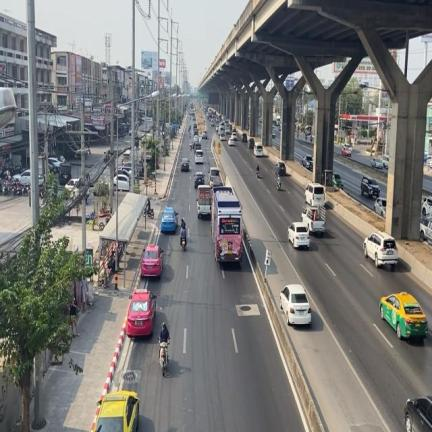bus: (211, 186, 242, 261)
car: (280, 284, 310, 324), (364, 232, 398, 267), (288, 222, 309, 248), (361, 177, 379, 196), (194, 171, 205, 188)
motorbike: (159, 342, 168, 375), (12, 182, 22, 194), (3, 181, 10, 194), (143, 209, 153, 218), (180, 237, 186, 250)
pickup: (302, 205, 325, 235)
taxi: (380, 292, 426, 338), (94, 390, 139, 431), (126, 289, 155, 336), (141, 244, 163, 276), (161, 207, 177, 232)
truck: (197, 185, 210, 217)
van: (304, 182, 324, 206), (209, 167, 221, 186)
